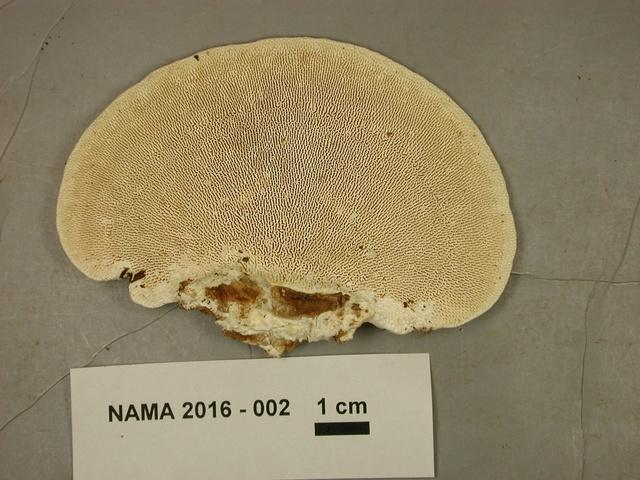poisonous_mushroom: (54, 34, 518, 357)
